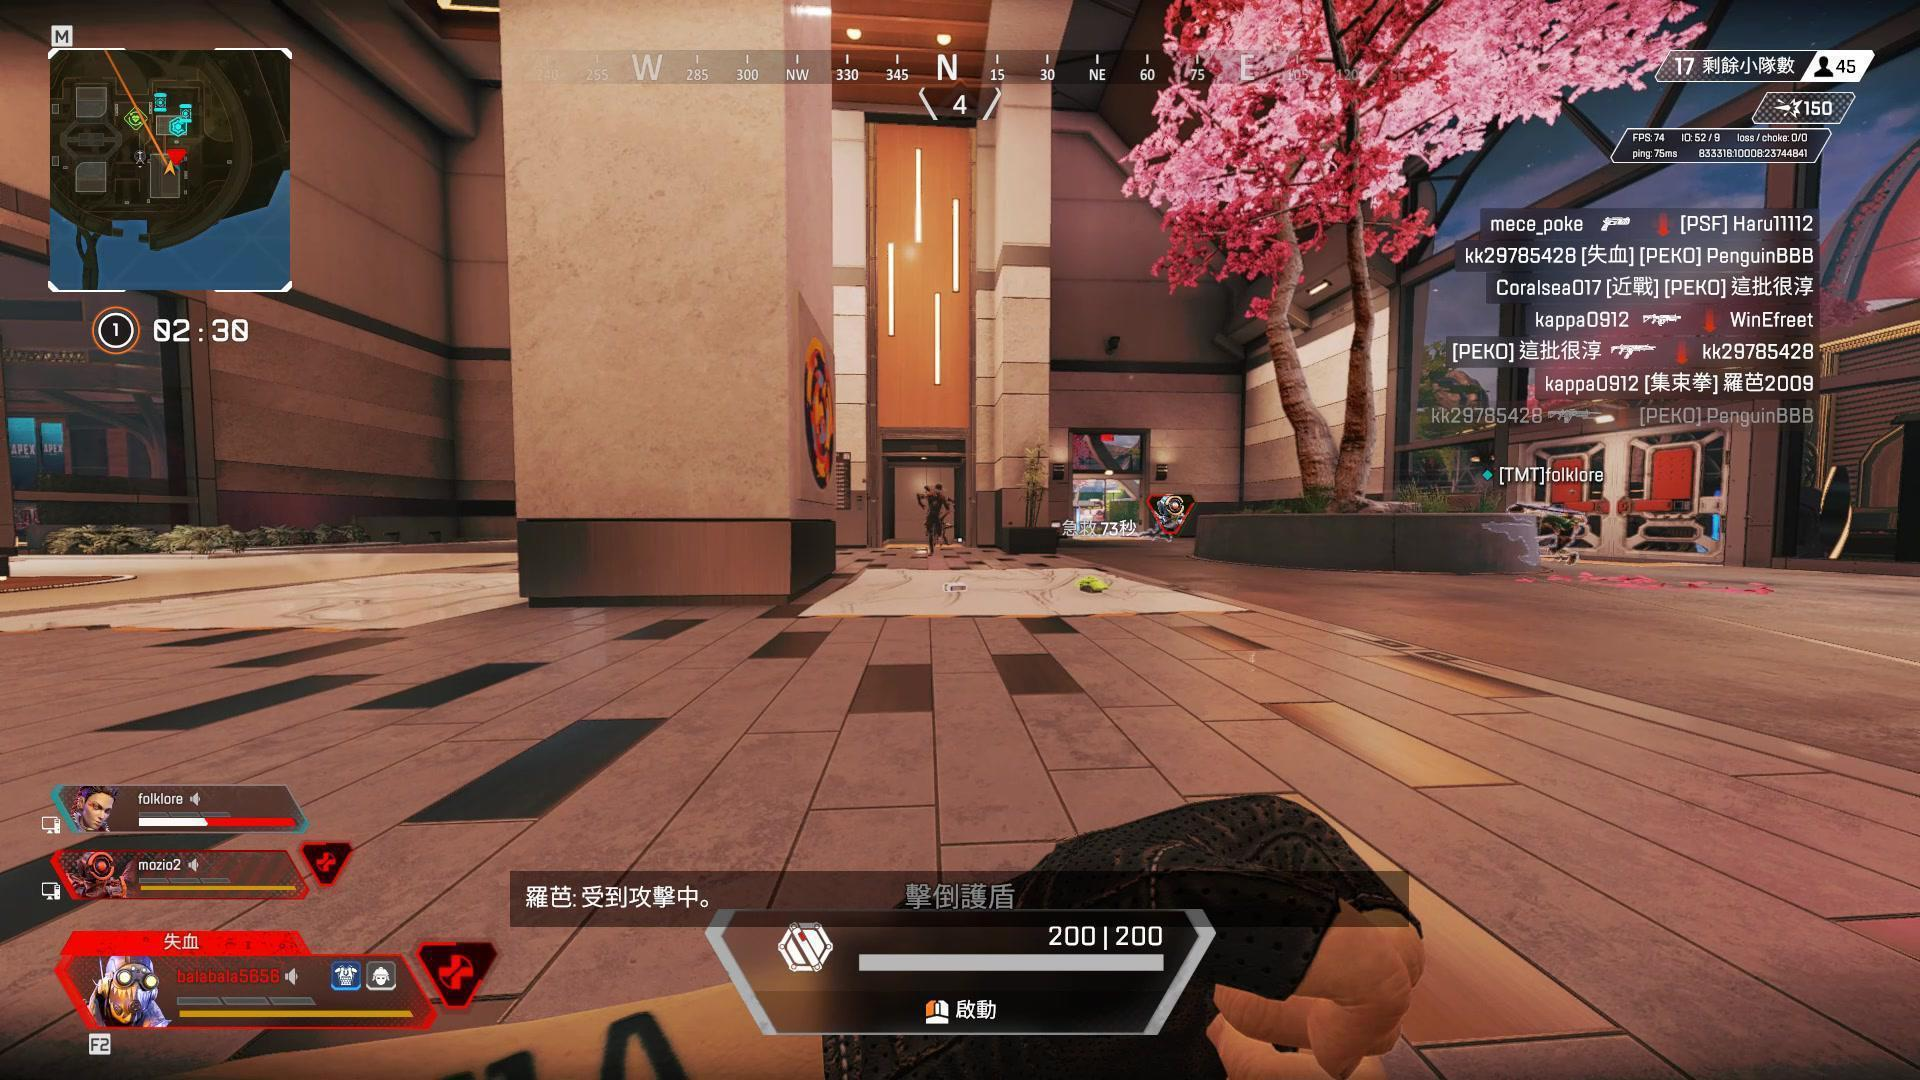avatar: (915, 482, 952, 557)
